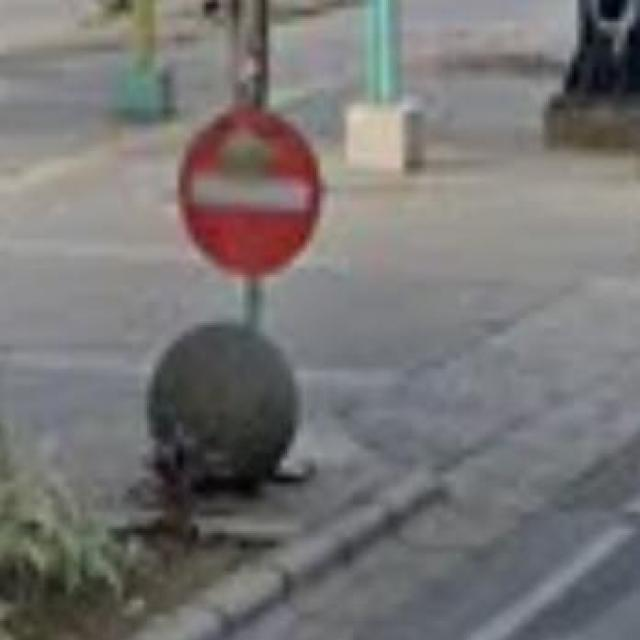traffic sign: (180, 113, 318, 274)
